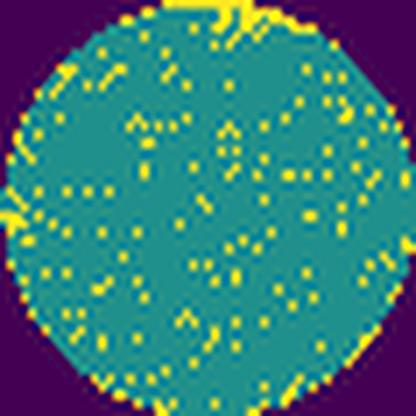Edge-Loc: (163, 0, 322, 45)
